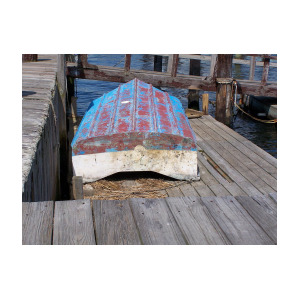boat_cabin: (65, 75, 210, 189)
